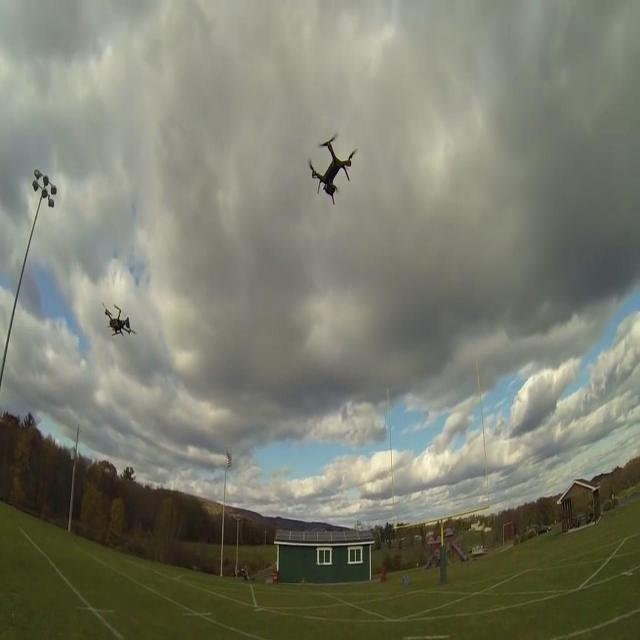UAV: (308, 132, 358, 205), (102, 303, 137, 336)
